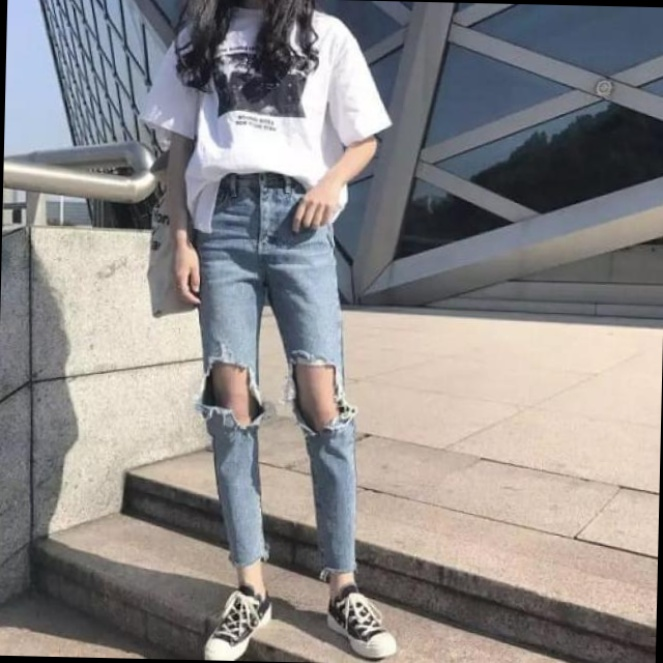ripped_pants: (185, 169, 369, 581)
